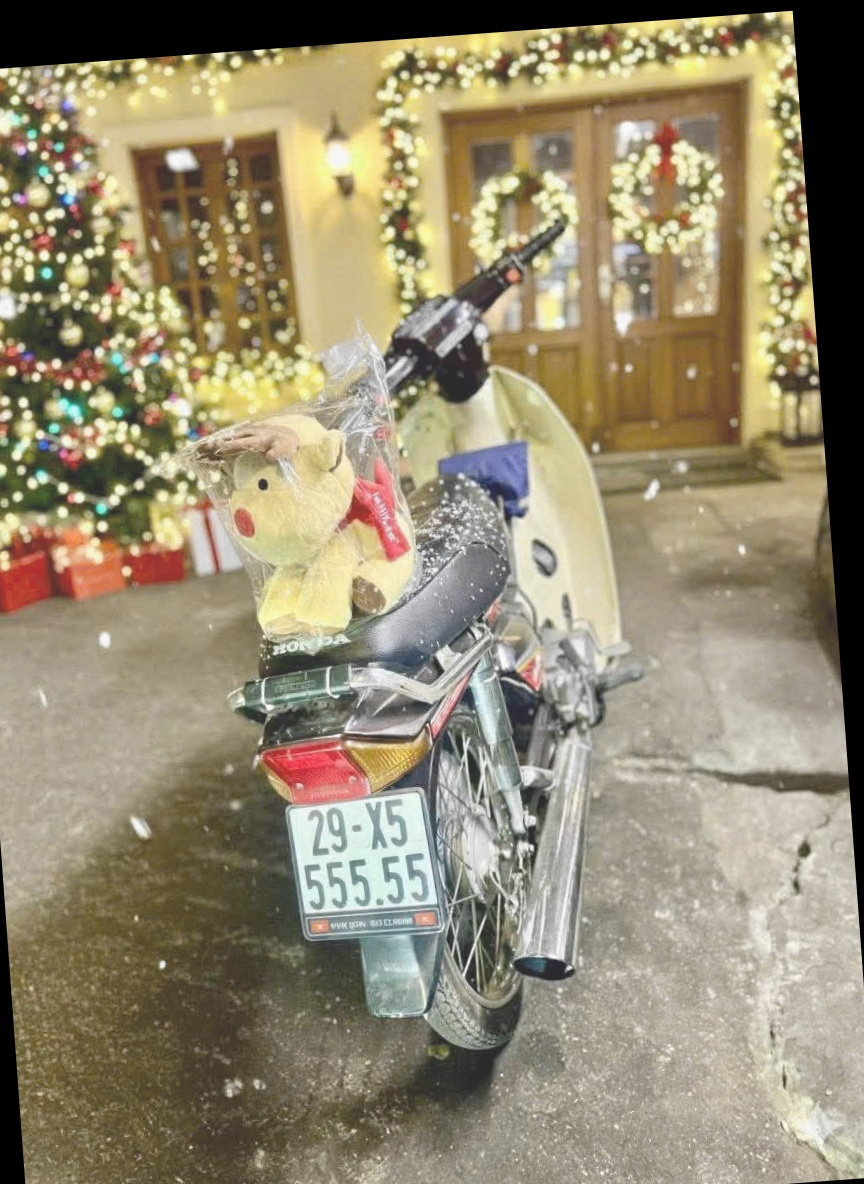Bien-so: (276, 782, 446, 920)
